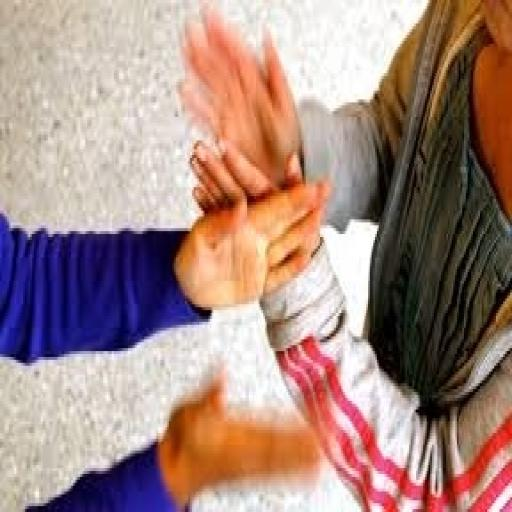clapping: (176, 0, 510, 509)
